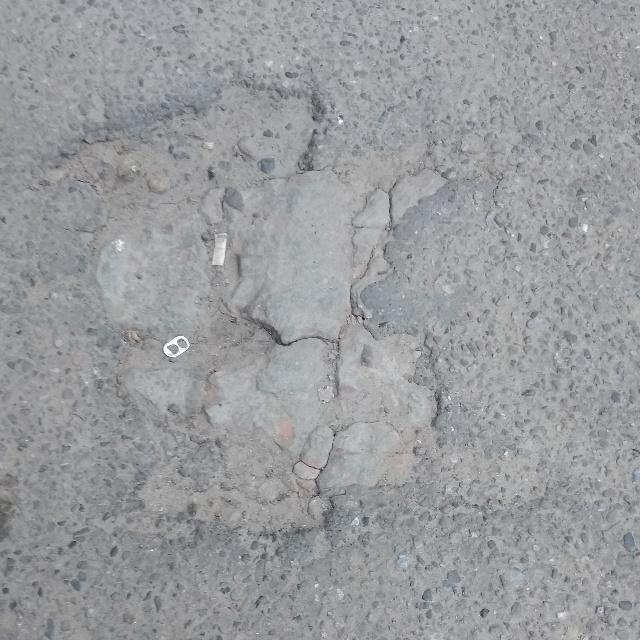Surface Erosion: (4, 30, 640, 640)
